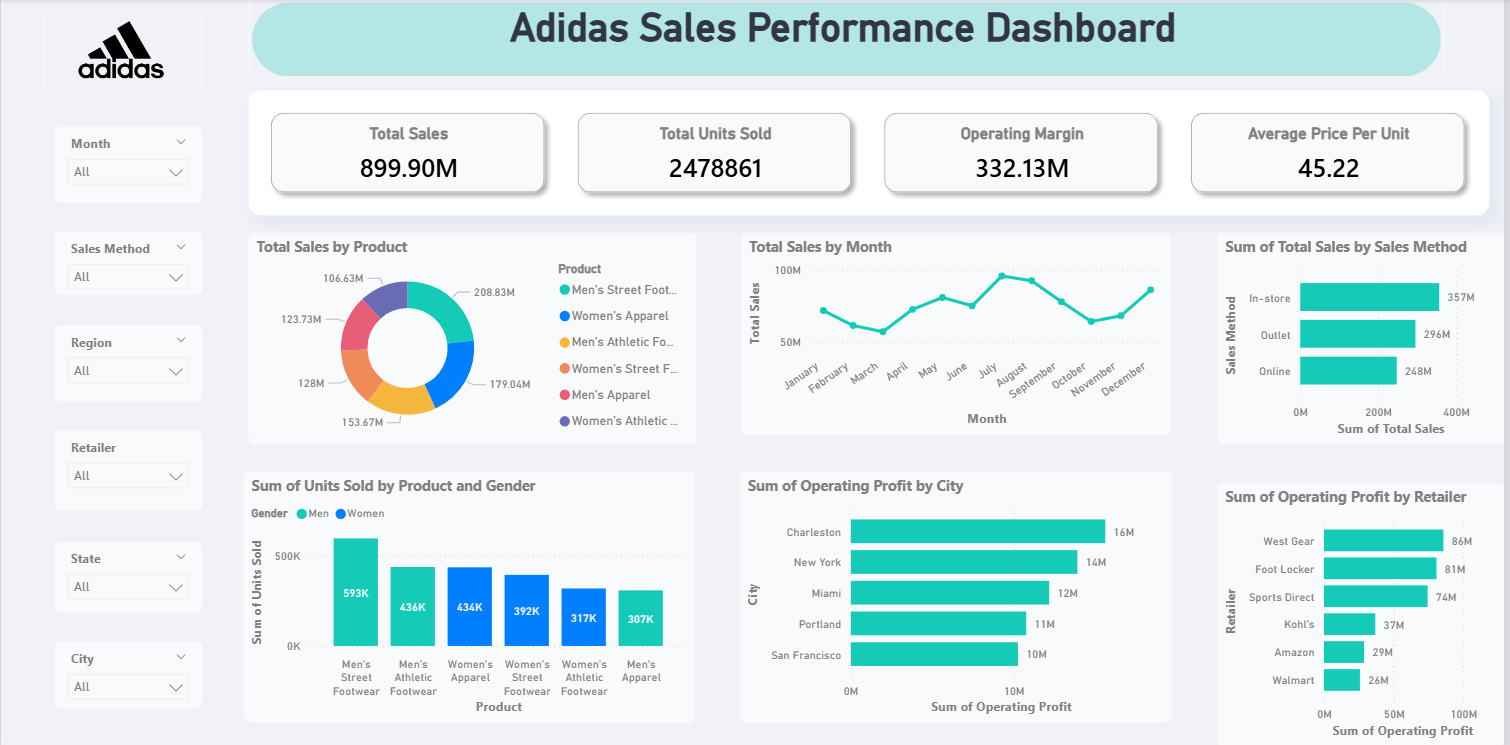

The page's visual inventory and layout, read from the dashboard file:
{"tool":"powerbi","page":{"name":"Page 3","canvas":[1450,720],"ordinal":0},"visuals":[{"type":"cardVisual","fields":{"Data":["measures_.Total Sales","measures_.Unit Sold","measures_.operating Margin","measures_.avg price per unit"]},"box":[238.4,88.3,1197.4,121.2],"z":0},{"type":"donutChart","fields":{"Category":["Data Sales Adidas.Product"],"Y":["measures_.Total Sales"]},"box":[238.4,225.2,432.1,204.2],"z":1000},{"type":"lineChart","fields":{"Y":["measures_.Total Sales"],"Category":["DateTable.Month"]},"box":[714.6,225.2,414.9,194.9],"z":2000},{"type":"clusteredBarChart","fields":{"Category":["Data Sales Adidas.Retailer"],"Y":["Sum(Data Sales Adidas.Operating Profit)"]},"box":[1173.4,466.3,276.6,254.2],"z":3000},{"type":"columnChart","fields":{"Category":["Data Sales Adidas.Product"],"Y":["Sum(Data Sales Adidas.Units Sold)"],"Series":["Data Sales Adidas.Gender"]},"box":[234.5,455.8,436,242.4],"z":4000},{"type":"clusteredBarChart","fields":{"Category":["Data Sales Adidas.Sales Method"],"Y":["Sum(Data Sales Adidas.Total Sales)"]},"box":[1173.4,225.2,276.6,204.2],"z":5000},{"type":"clusteredBarChart","fields":{"Category":["Data Sales Adidas.City"],"Y":["Sum(Data Sales Adidas.Operating Profit)"]},"box":[713.3,455.8,417.6,242.4],"z":6000},{"type":"slicer","fields":{"Values":["DateTable.Month"]},"box":[51.4,122.5,142.3,73.8],"z":7000},{"type":"slicer","fields":{"Values":["Data Sales Adidas.Sales Method"]},"box":[51.4,225,142.3,60.6],"z":8000},{"type":"slicer","fields":{"Values":["Data Sales Adidas.Region"]},"box":[51.4,314.3,142.3,73.8],"z":9000},{"type":"slicer","fields":{"Values":["Data Sales Adidas.Retailer"]},"box":[51.4,416.8,142.3,77.7],"z":10000},{"type":"slicer","fields":{"Values":["Data Sales Adidas.State"]},"box":[51.4,523.2,142.3,68.5],"z":11000},{"type":"slicer","fields":{"Values":["Data Sales Adidas.City"]},"box":[51.4,620.4,142.3,64.5],"z":12000},{"type":"image","box":[40.8,10.5,152.8,77.7],"z":13000},{"type":"shape","box":[238.4,0,1153.9,77.7],"z":14000},{"type":"textbox","box":[271.3,0,1082.8,77.7],"z":15000}]}

Visuals, with their boxes in screenshot pixels (x1, y1, x2, y2), scaled from the page's 1450x720 canvas onto the 1510x745 screenshot:
cardVisual - measures_.Total Sales x measures_.Unit Sold: (left=248, top=91, right=1495, bottom=217)
donutChart - Data Sales Adidas.Product x measures_.Total Sales: (left=248, top=233, right=698, bottom=444)
lineChart - measures_.Total Sales x DateTable.Month: (left=744, top=233, right=1176, bottom=435)
clusteredBarChart - Data Sales Adidas.Retailer x Sum(Data Sales Adidas.Operating Profit): (left=1222, top=482, right=1509, bottom=744)
columnChart - Data Sales Adidas.Product x Sum(Data Sales Adidas.Units Sold): (left=244, top=472, right=698, bottom=722)
clusteredBarChart - Data Sales Adidas.Sales Method x Sum(Data Sales Adidas.Total Sales): (left=1222, top=233, right=1509, bottom=444)
clusteredBarChart - Data Sales Adidas.City x Sum(Data Sales Adidas.Operating Profit): (left=743, top=472, right=1178, bottom=722)
slicer - DateTable.Month: (left=54, top=127, right=202, bottom=203)
slicer - Data Sales Adidas.Sales Method: (left=54, top=233, right=202, bottom=296)
slicer - Data Sales Adidas.Region: (left=54, top=325, right=202, bottom=402)
slicer - Data Sales Adidas.Retailer: (left=54, top=431, right=202, bottom=512)
slicer - Data Sales Adidas.State: (left=54, top=541, right=202, bottom=612)
slicer - Data Sales Adidas.City: (left=54, top=642, right=202, bottom=709)
image: (left=42, top=11, right=202, bottom=91)
shape: (left=248, top=0, right=1450, bottom=80)
textbox: (left=283, top=0, right=1410, bottom=80)
